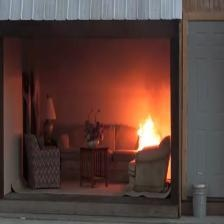fire: (126, 100, 171, 161)
